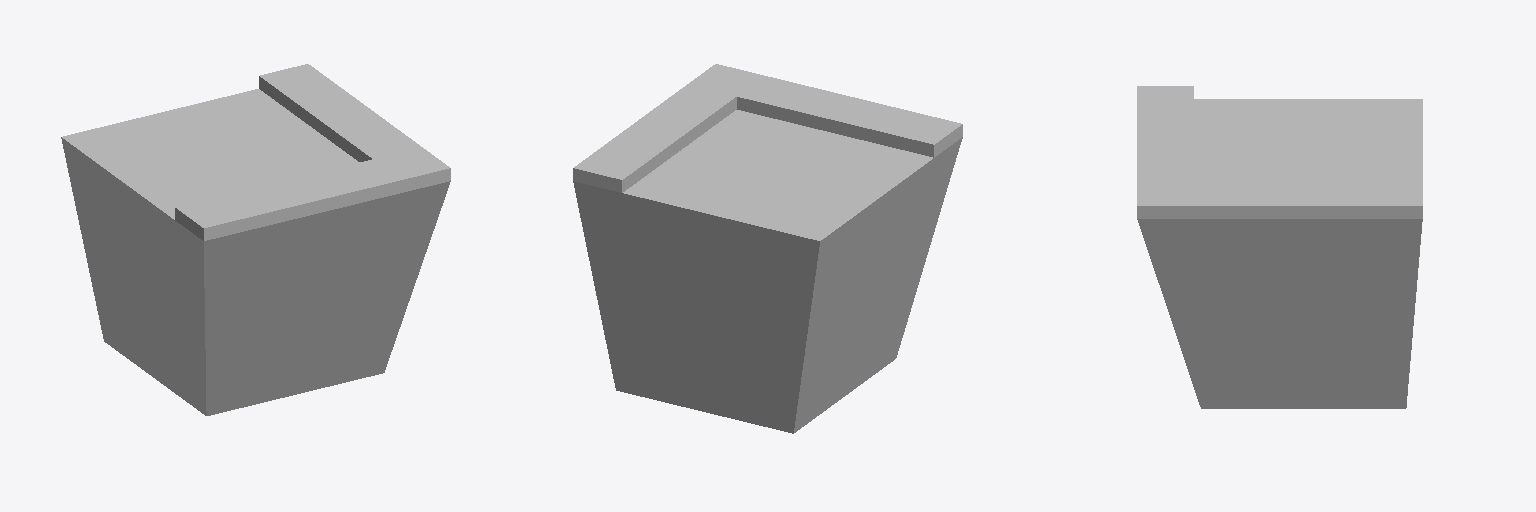
File: ground_right.obj
3 views of the same model, side by side, from view 1: azimuth 30°, elevation 25°; view 2: azimuth 150°, elevation 25°; view 3: azimuth 270°, elevation 25° (orthographic).
Parts seen in each view (by area): view 1: Cube_Cube.002; view 2: Cube_Cube.002; view 3: Cube_Cube.002.
Boxes of the visible parts, x1,y1,x2,y2 form: Cube_Cube.002: [61, 64, 450, 415]; Cube_Cube.002: [573, 64, 962, 433]; Cube_Cube.002: [1137, 86, 1422, 408].
Size of the model in its own units: 10 by 8.5 by 10.